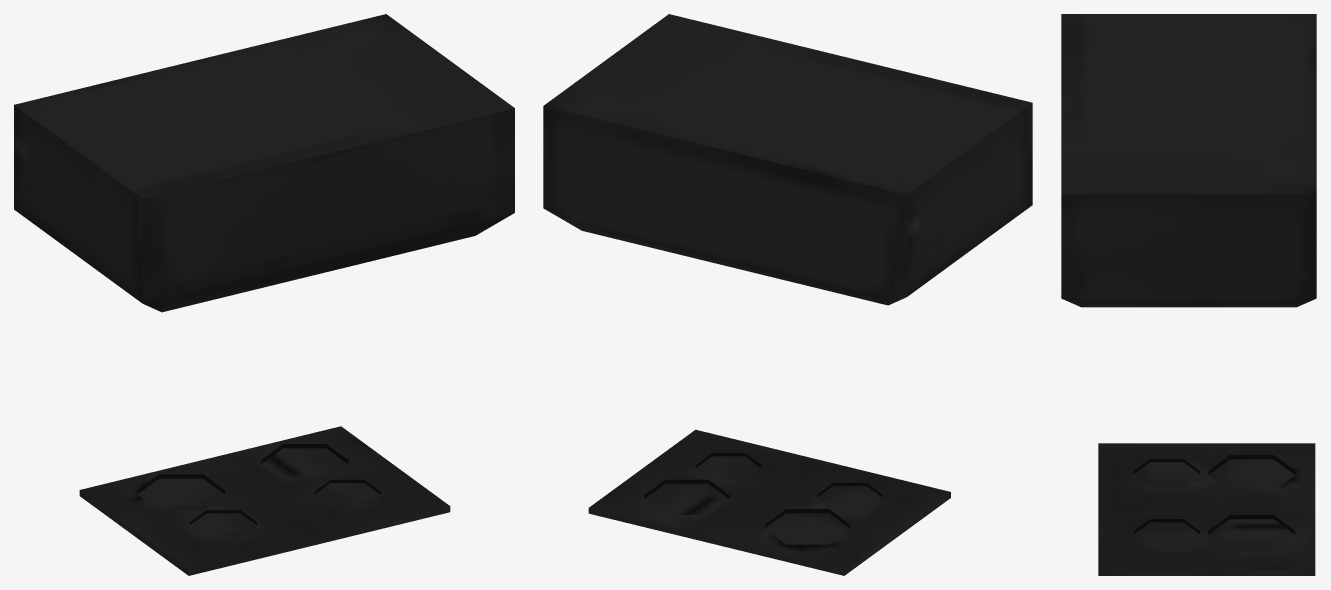
The model's file is oven.glb.
3 views of the same model, side by side, from view 1: azimuth 30°, elevation 25°; view 2: azimuth 150°, elevation 25°; view 3: azimuth 270°, elevation 25° (orthographic). The views are drawn at different scales.
Visible parts, largest first — view 1: Oven; view 2: Oven; view 3: Oven.
Boxes of the visible parts, x1,y1,x2,y2 form: Oven: [14, 14, 514, 575]; Oven: [543, 14, 1032, 575]; Oven: [1061, 14, 1316, 575].
Bounding box in the file's own units: 1.03 × 1.08 × 0.6182.
Materials: 1 (1 with a texture image).
